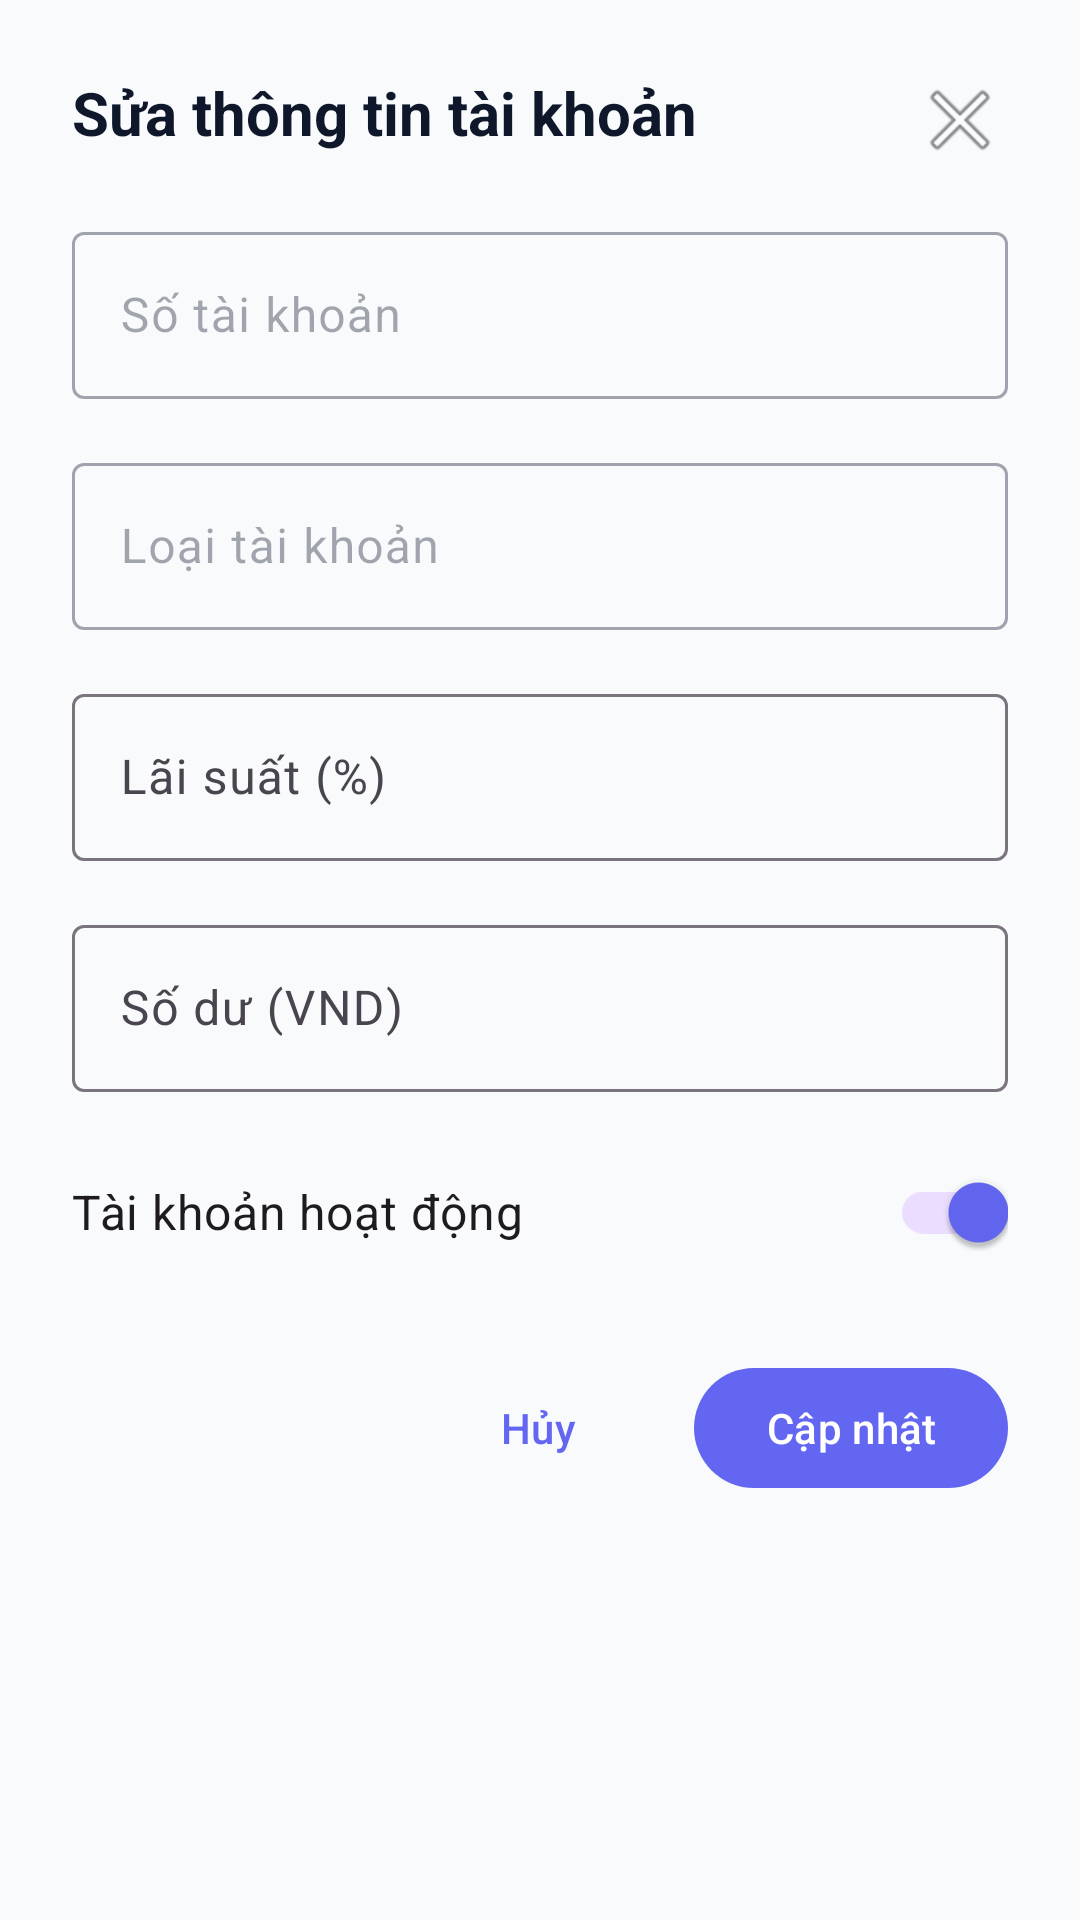

Point at icon controls on the screen. Image size 1080px x 1920px, points as point (x, y).
Đóng: point (960, 120)
